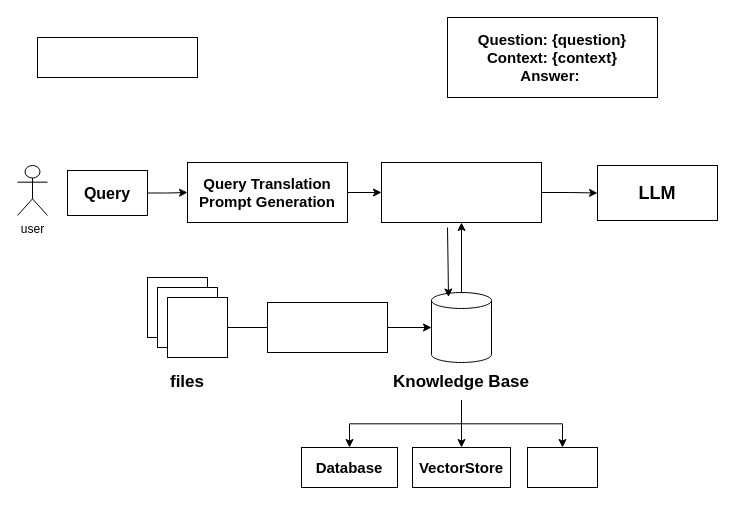
Some shapes in this 735 by 505 pixel diagram are drawn without their labels. Here are the shapes that lost their labels. From the top down, the centre of each, then its label:
At [117,57]: "who is John ?".
At [461,192]: "Context Building".
At [327,327]: "embeddings vectors".
At [562,467]: "APIs".
